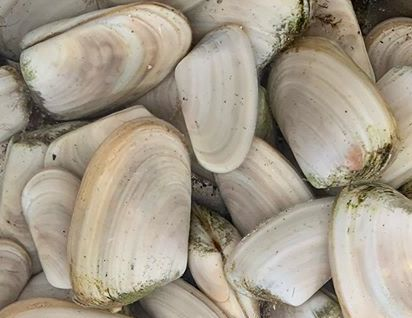tuatua: (62, 119, 194, 310), (265, 35, 396, 192), (18, 4, 192, 118), (219, 194, 344, 309), (174, 21, 255, 174), (327, 179, 412, 316), (210, 135, 305, 234), (189, 201, 260, 318), (19, 166, 73, 294)
